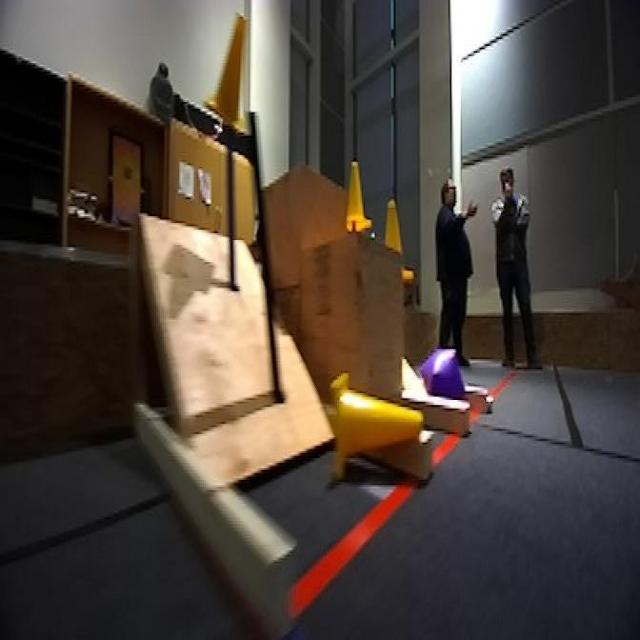frc_cone: (326, 369, 426, 482), (200, 9, 260, 134), (379, 199, 411, 288), (339, 164, 371, 236)
frc_cube: (422, 345, 468, 412)
